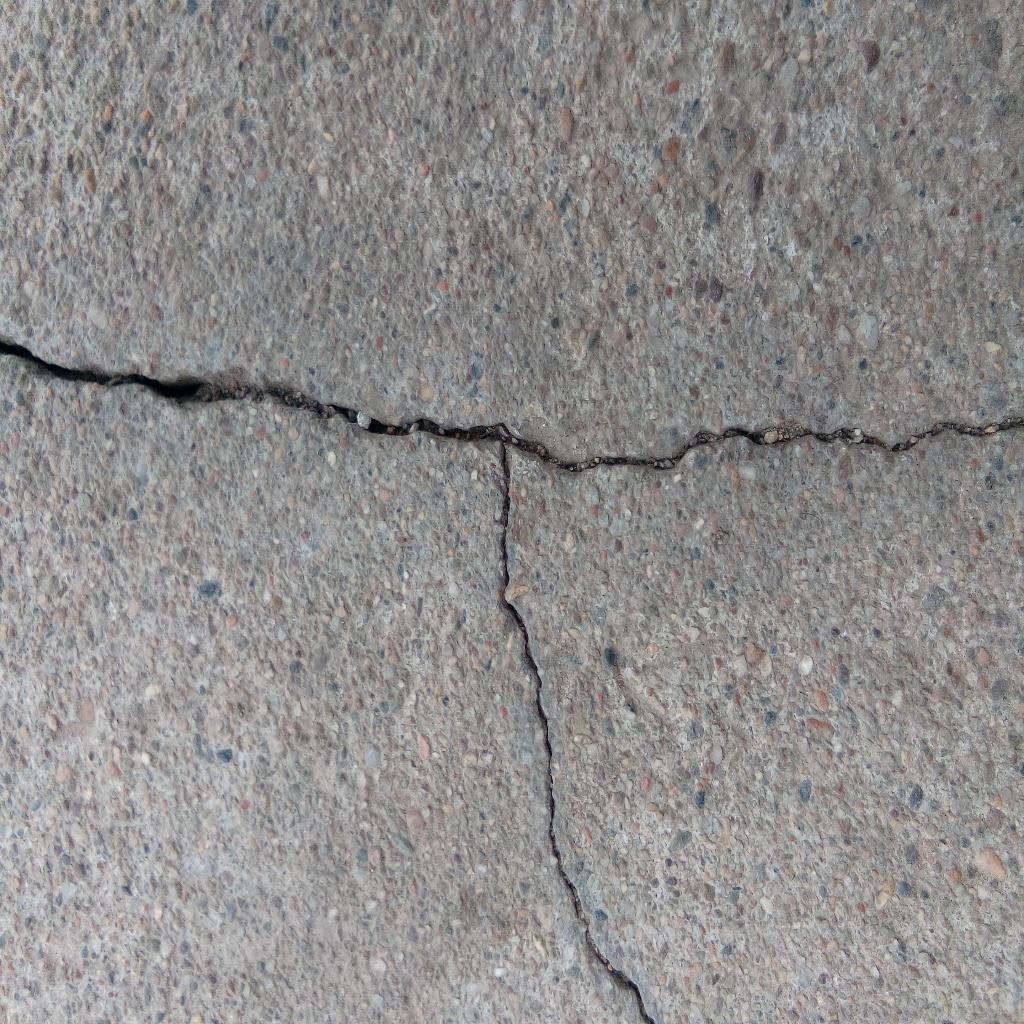Crack: (500, 446, 653, 1024), (1, 335, 509, 446), (509, 413, 1024, 476)
